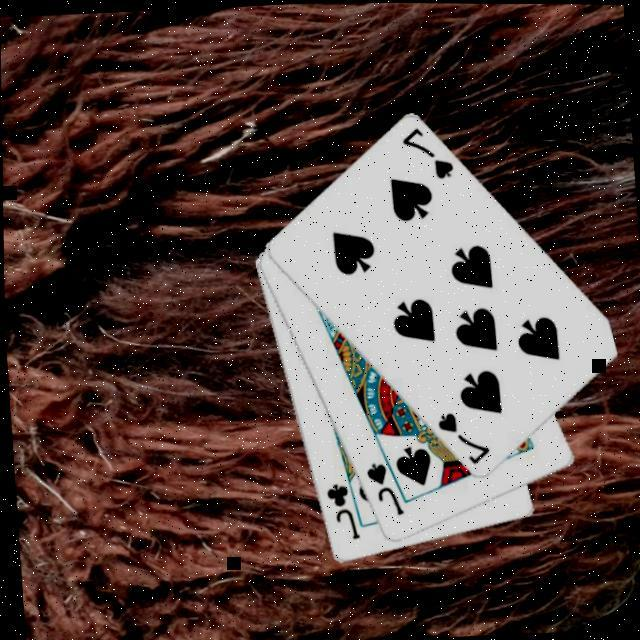7S: (431, 404, 491, 468), (396, 121, 456, 182)
JC: (320, 478, 360, 542)
JS: (359, 456, 404, 518)
